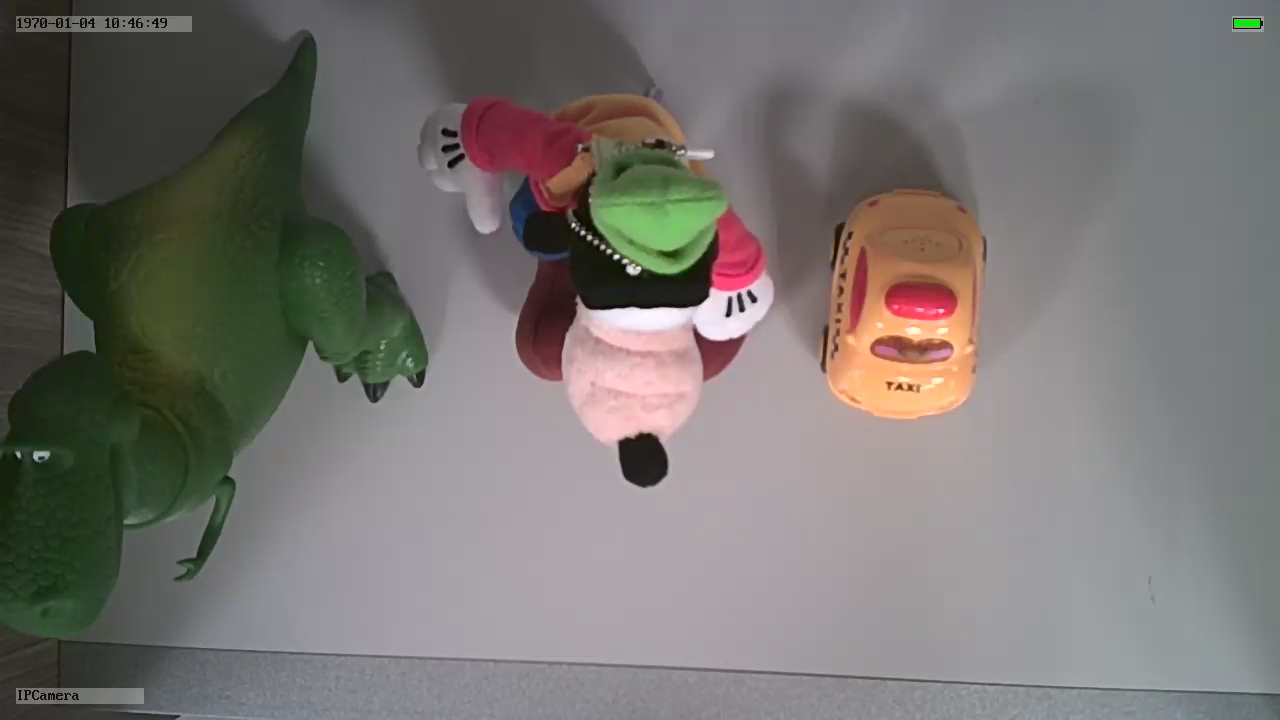goofy: (416, 87, 776, 492)
